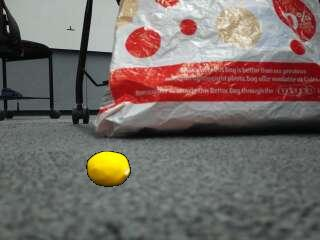lemon: (89, 152, 131, 187)
